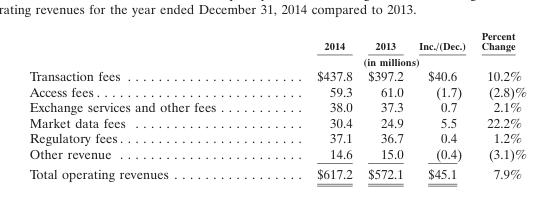table: (28, 28, 526, 181)
table column: (28, 28, 265, 181), (265, 28, 359, 181), (410, 28, 472, 181), (472, 28, 526, 181), (359, 28, 410, 181)
table column header: (28, 28, 526, 67)
table row: (28, 28, 526, 53), (28, 145, 526, 163), (28, 163, 526, 181), (28, 67, 526, 83), (28, 98, 526, 114), (28, 129, 526, 145), (28, 83, 526, 98), (28, 114, 526, 129), (28, 53, 526, 67)
table spanning cell: (265, 53, 472, 67), (472, 28, 526, 67)
